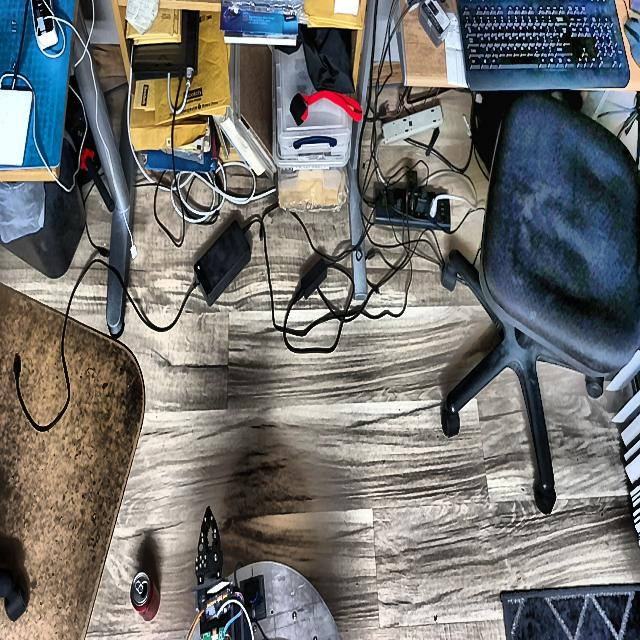Can: (131, 572, 159, 621)
